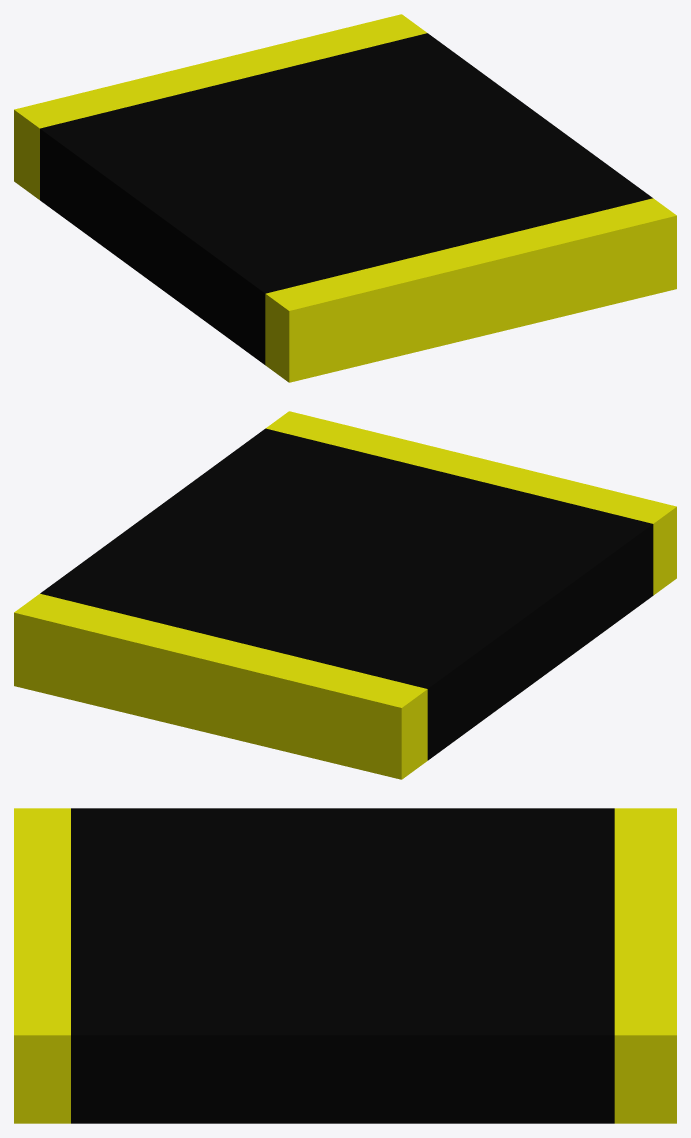
The model's file is ConveyorBeltMidNoStand.fbx.
The picture shows the model from 3 angles, top to bottom: view 1: azimuth 30°, elevation 25°; view 2: azimuth 150°, elevation 25°; view 3: azimuth 270°, elevation 25°; orthographic projection. The views are drawn at different scales.
Parts seen in each view (by area): view 1: Belt; view 2: Belt; view 3: Belt.
Boxes of the visible parts, <box> form: Belt: <box>14,14,676,382</box>; Belt: <box>14,411,676,779</box>; Belt: <box>14,808,676,1123</box>.
Size of the model in its own units: 1.78 by 0.323 by 2.19.
